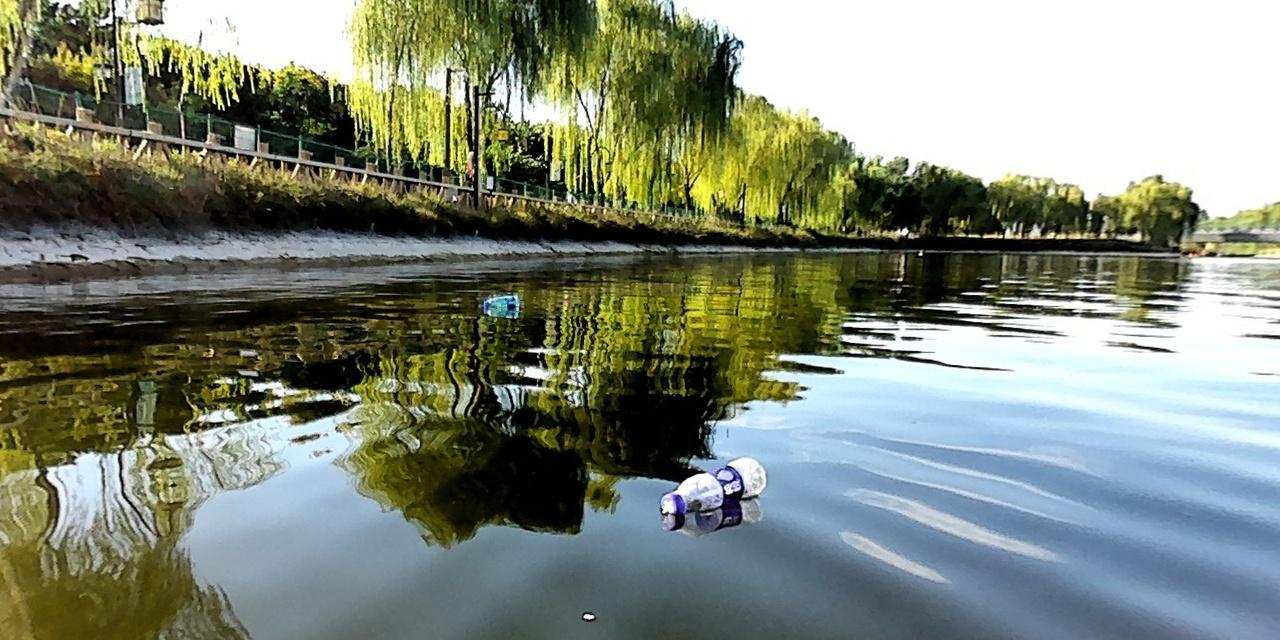bottle: (652, 453, 769, 515), (480, 293, 520, 310)
